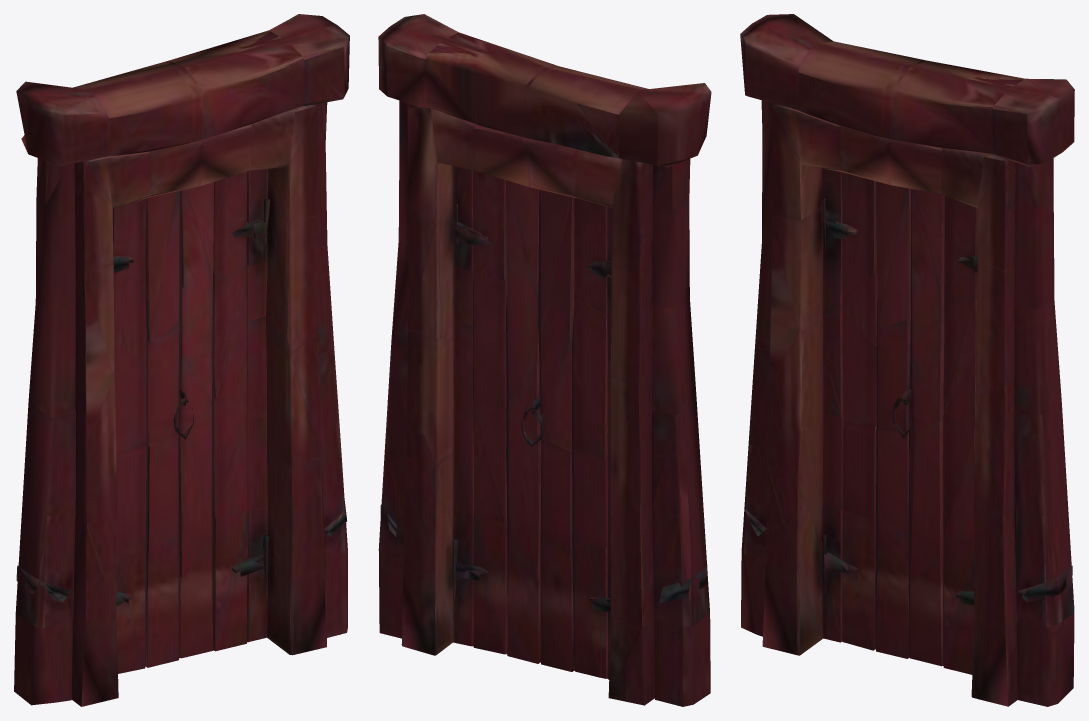
File: door.lod1.glb
The picture shows the model from 3 angles, left to right: view 1: azimuth 30°, elevation 25°; view 2: azimuth 150°, elevation 25°; view 3: azimuth 330°, elevation 25°; orthographic projection.
Size of the model in its own units: 1.3 by 2.35 by 0.3292.
1 material, 1 textured.
